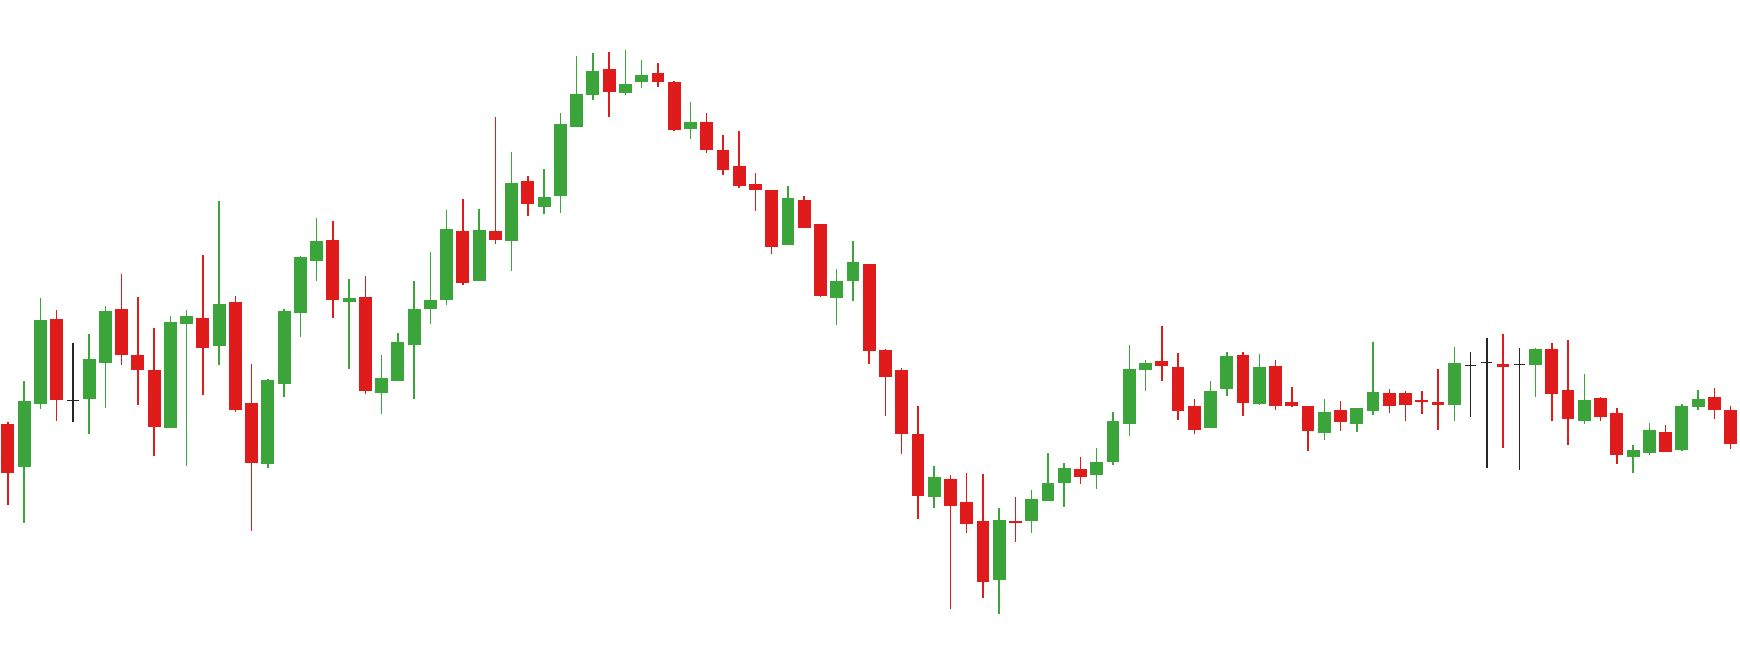buy: (145, 310, 275, 530)
